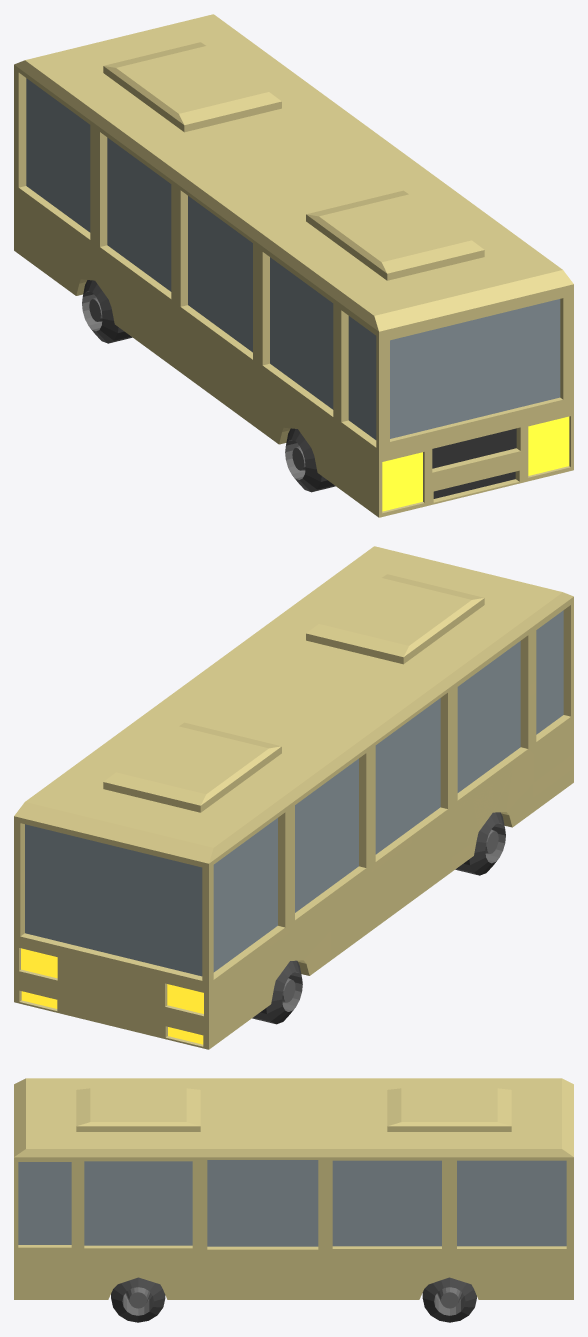
The model's file is bus.fbx.
3 renders of one model, top to bottom at view 1: azimuth 30°, elevation 25°; view 2: azimuth 150°, elevation 25°; view 3: azimuth 270°, elevation 25°, orthographic. The views are drawn at different scales.
Visible parts, largest first — view 1: Cylinder; view 2: Cylinder; view 3: Cylinder.
Part boxes in pixels (box(x1,y1,x2,y2)): Cylinder: box(14, 14, 573, 517); Cylinder: box(14, 546, 573, 1049); Cylinder: box(14, 1078, 573, 1322).
Bounding box in the file's own units: 278 × 317 × 877.
